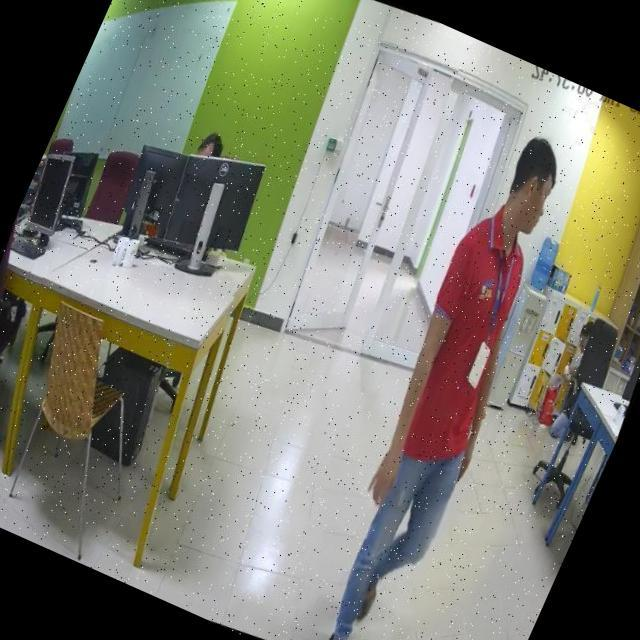person: (268, 119, 619, 640)
